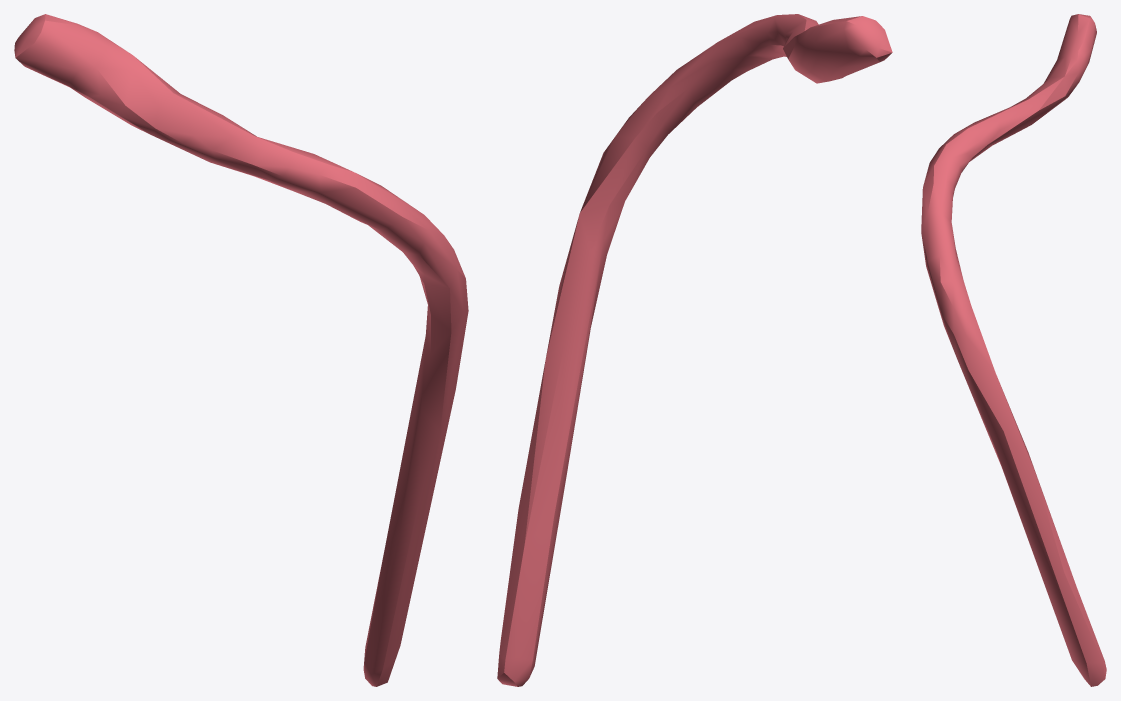
Rendered from fma50532_fj4981.glb.
The picture shows the model from 3 angles, left to right: view 1: azimuth 30°, elevation 25°; view 2: azimuth 150°, elevation 25°; view 3: azimuth 270°, elevation 25°; orthographic projection. The views are drawn at different scales.
Visible parts, largest first — view 1: FMA50532_FJ4981; view 2: FMA50532_FJ4981; view 3: FMA50532_FJ4981.
Part boxes in pixels (x1,y1,x2,y2): FMA50532_FJ4981: [14, 14, 468, 686]; FMA50532_FJ4981: [497, 14, 892, 686]; FMA50532_FJ4981: [921, 14, 1106, 686].
Bounding box in the file's own units: 0.015 × 0.0276 × 0.00848.
